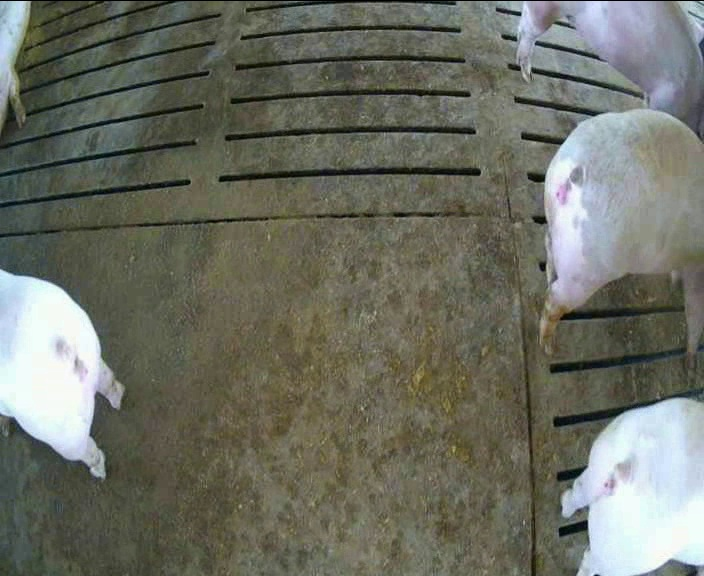pig: (541, 109, 703, 365), (516, 4, 703, 137), (562, 398, 703, 573)
